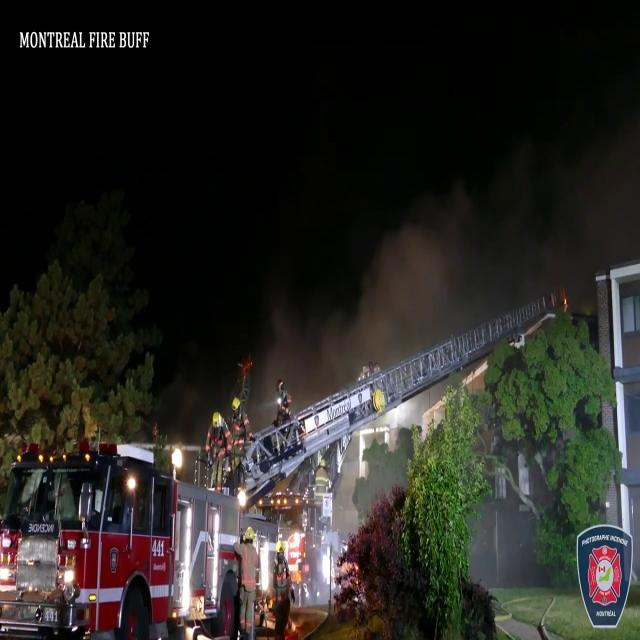Fire: (178, 484, 238, 616)
Smoke: (256, 148, 570, 499)
